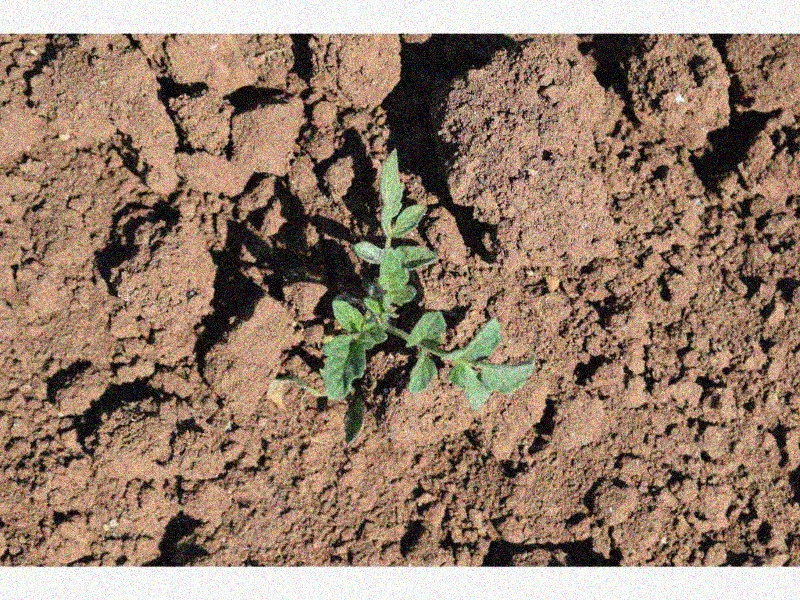tomato: (323, 148, 536, 412)
